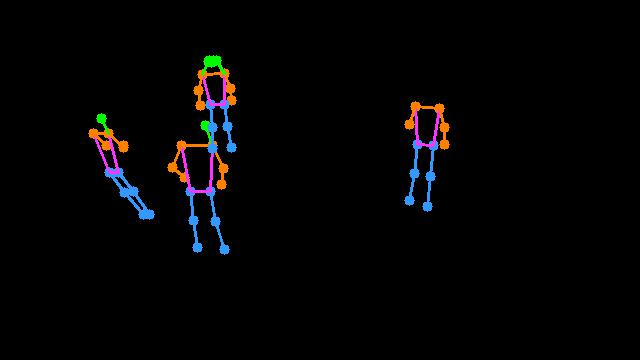normal: (154, 43, 258, 267), (67, 92, 161, 236)
